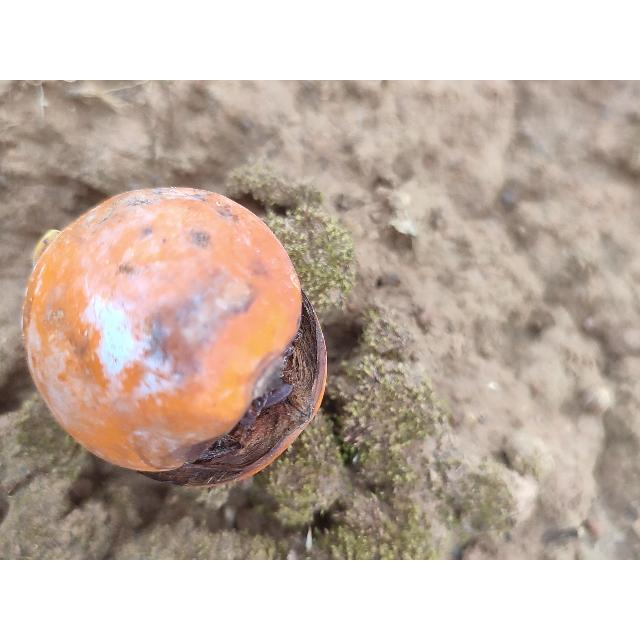damaged: (20, 187, 310, 487)
